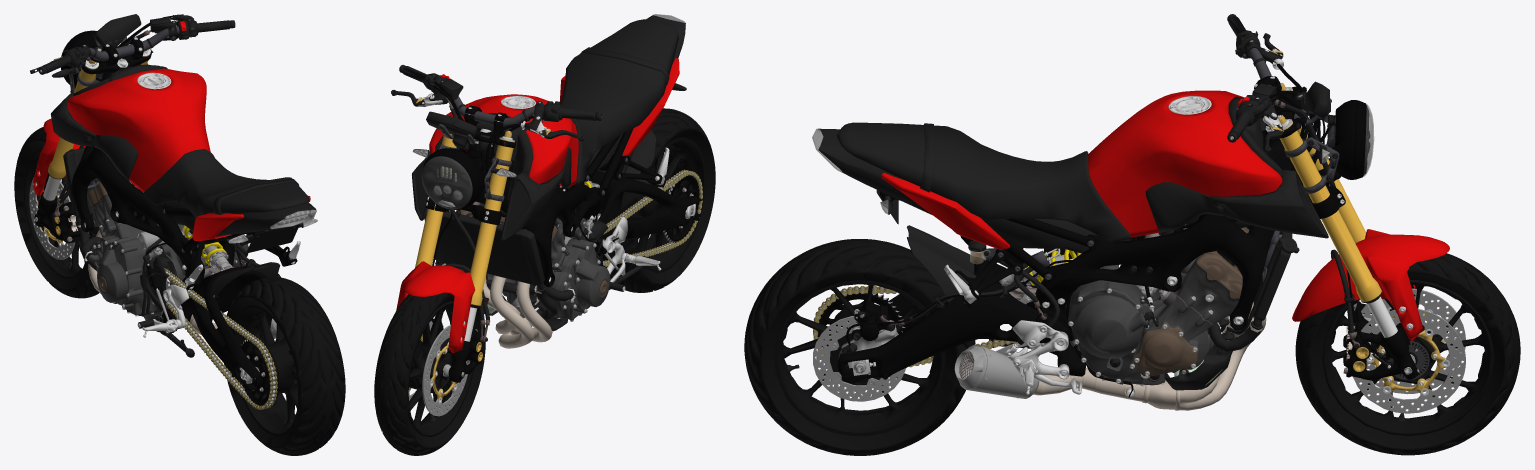
Rendered from bike.glb.
The picture shows the model from 3 angles, left to right: view 1: azimuth 30°, elevation 25°; view 2: azimuth 150°, elevation 25°; view 3: azimuth 270°, elevation 25°; orthographic projection. The views are drawn at different scales.
Visible parts, largest first — view 1: rear tire surface_Tires_0, fuel tank_Paint_0, ecu_Black Plastic_0, seat_Seat_0, rear wheel geometry_Wheels_0, plate bracket_Black Powder Coating_0, frame_Black Powder Coating_0, crank case_Engine Gray Rough_0, airbox screws_Aluminum_0, throttle body air hoses_Black Rubber_0, throttle cables inner_Dull Metal_0, clutch cover_Engine Gray Smooth_0 (+16 smaller); view 2: rear tire surface_Tires_0, seat_Seat_0, ecu_Black Plastic_0, rear wheel geometry_Wheels_0, plate bracket_Black Powder Coating_0, tail_plastics_Paint_0, frame_Black Powder Coating_0, fuel tank_Paint_0, raditator_Black Plastic_0, fork_tube_Forks_0, airbox screws_Aluminum_0, throttle body air hoses_Black Rubber_0 (+20 smaller); view 3: rear tire surface_Tires_0, seat_Seat_0, fuel tank_Paint_0, rear wheel geometry_Wheels_0, ecu_Black Plastic_0, plate bracket_Black Powder Coating_0, throttle cables inner_Dull Metal_0, frame_Black Powder Coating_0, tail_plastics_Paint_0, airbox screws_Aluminum_0, crank case_Engine Gray Rough_0, clutch cover_Engine Gray Smooth_0 (+16 smaller).
Boxes of the visible parts, x1,y1,x2,y2 form: rear tire surface_Tires_0: [14, 127, 345, 455]; fuel tank_Paint_0: [67, 68, 210, 192]; ecu_Black Plastic_0: [50, 14, 317, 312]; seat_Seat_0: [143, 149, 309, 217]; rear wheel geometry_Wheels_0: [23, 148, 299, 436]; plate bracket_Black Powder Coating_0: [101, 38, 297, 390]; frame_Black Powder Coating_0: [70, 73, 234, 328]; crank case_Engine Gray Rough_0: [92, 195, 210, 314]; airbox screws_Aluminum_0: [35, 37, 300, 390]; throttle body air hoses_Black Rubber_0: [43, 14, 280, 336]; throttle cables inner_Dull Metal_0: [29, 21, 276, 398]; clutch cover_Engine Gray Smooth_0: [96, 236, 248, 308]; rear tire surface_Tires_0: [374, 108, 715, 455]; seat_Seat_0: [560, 19, 678, 184]; ecu_Black Plastic_0: [412, 15, 686, 415]; rear wheel geometry_Wheels_0: [407, 137, 705, 436]; plate bracket_Black Powder Coating_0: [464, 105, 702, 242]; tail_plastics_Paint_0: [396, 58, 679, 353]; frame_Black Powder Coating_0: [466, 143, 601, 287]; fuel tank_Paint_0: [429, 94, 578, 186]; raditator_Black Plastic_0: [437, 211, 532, 284]; fork_tube_Forks_0: [415, 134, 514, 305]; airbox screws_Aluminum_0: [408, 93, 695, 403]; throttle body air hoses_Black Rubber_0: [402, 66, 625, 420]; rear tire surface_Tires_0: [744, 239, 1520, 455]; seat_Seat_0: [836, 122, 1130, 242]; fuel tank_Paint_0: [1088, 90, 1282, 237]; rear wheel geometry_Wheels_0: [774, 280, 1493, 435]; ecu_Black Plastic_0: [795, 30, 1370, 390]; plate bracket_Black Powder Coating_0: [837, 76, 1281, 384]; throttle cables inner_Dull Metal_0: [813, 40, 1465, 413]; frame_Black Powder Coating_0: [1035, 130, 1318, 376]; tail_plastics_Paint_0: [881, 173, 1449, 340]; airbox screws_Aluminum_0: [851, 48, 1449, 397]; crank case_Engine Gray Rough_0: [1065, 254, 1238, 382]; clutch cover_Engine Gray Smooth_0: [1068, 286, 1149, 380].
Size of the model in its own units: 0.7562 by 1.13 by 2.05.
